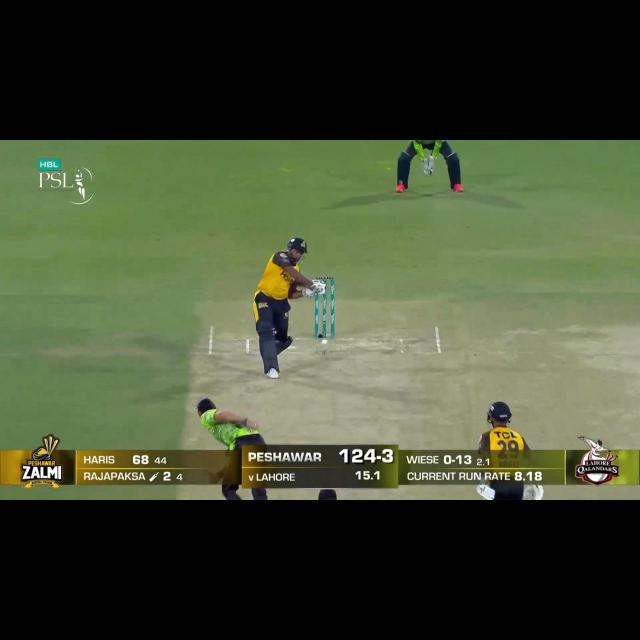bat: (296, 283, 304, 290)
